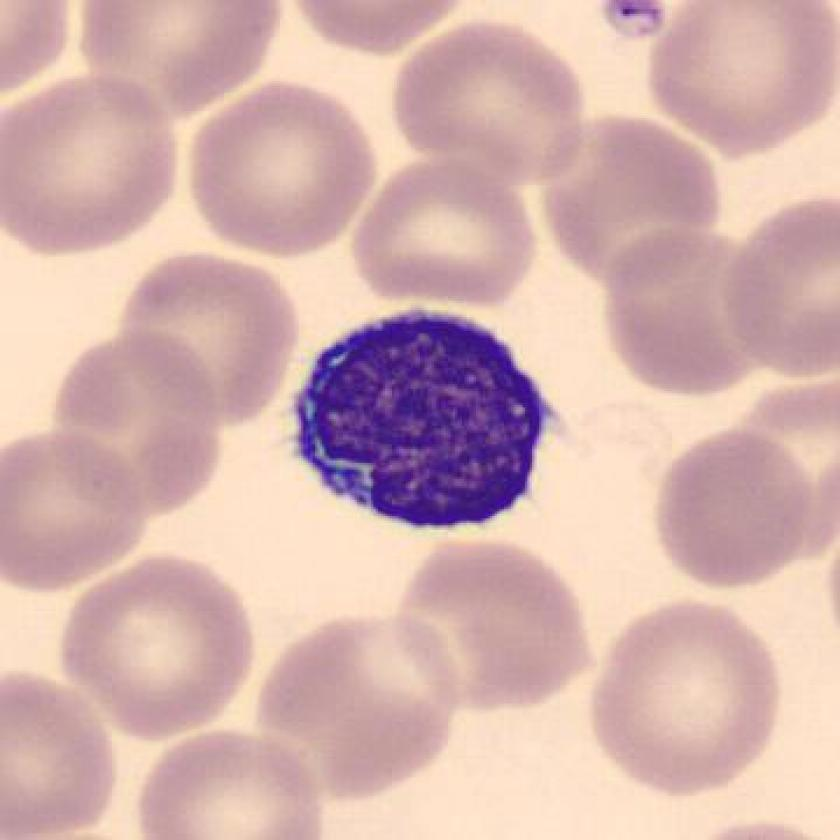lymphocyte: (279, 295, 566, 540)
